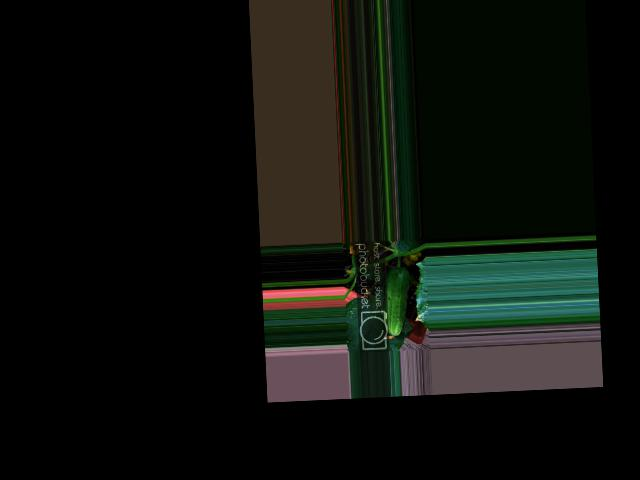cucumber: (381, 267, 412, 337)
